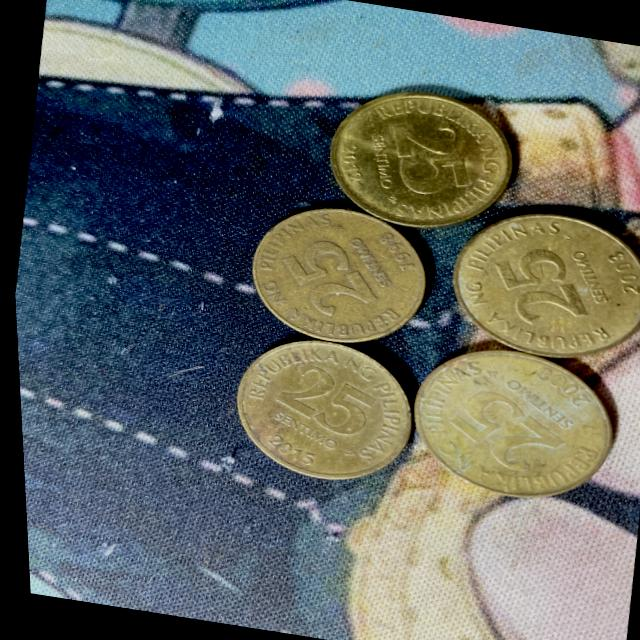25Cent_Old_Front: (442, 387, 564, 479), (484, 238, 595, 336), (264, 360, 378, 440), (280, 236, 379, 324), (378, 116, 475, 202)
